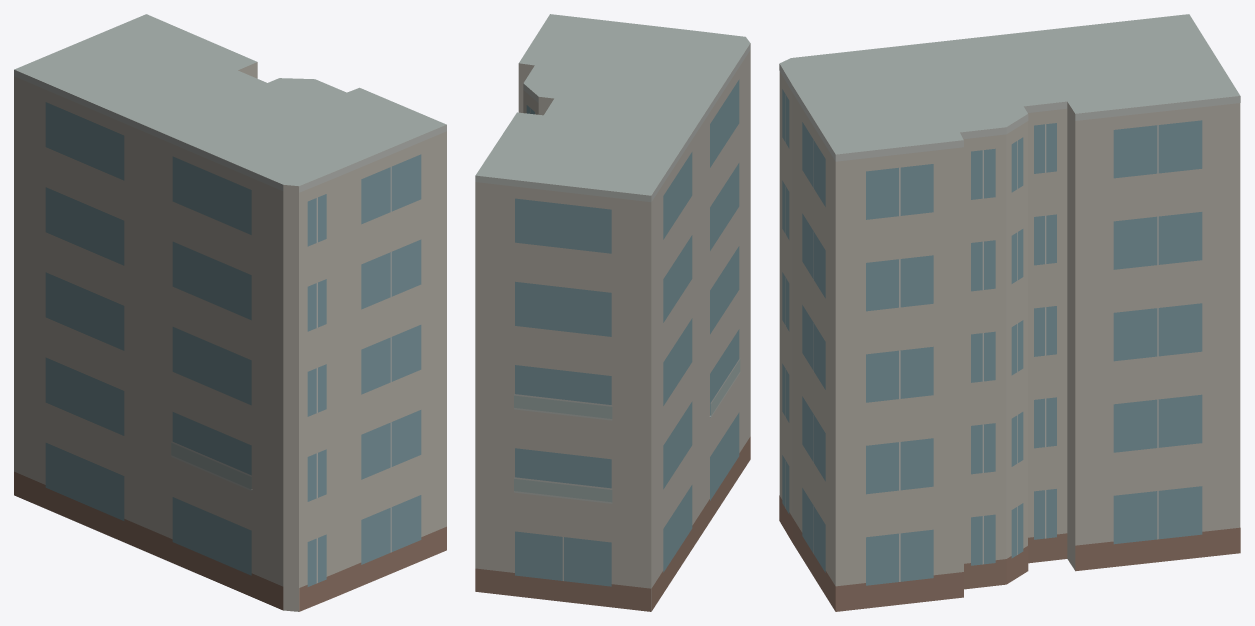
Rendered from survey-upis-32719990.glb.
The picture shows the model from 3 angles, left to right: view 1: azimuth 30°, elevation 25°; view 2: azimuth 150°, elevation 25°; view 3: azimuth 270°, elevation 25°; orthographic projection. The views are drawn at different scales.
Parts seen in each view (by area): view 1: survey-upis-32719990.tmp; view 2: survey-upis-32719990.tmp; view 3: survey-upis-32719990.tmp.
Boxes of the visible parts, x1,y1,x2,y2 form: survey-upis-32719990.tmp: (14,14,446,611); survey-upis-32719990.tmp: (475,14,750,611); survey-upis-32719990.tmp: (779,14,1240,611).
Bounding box in the file's own units: 10.33 × 15.65 × 14.31.
